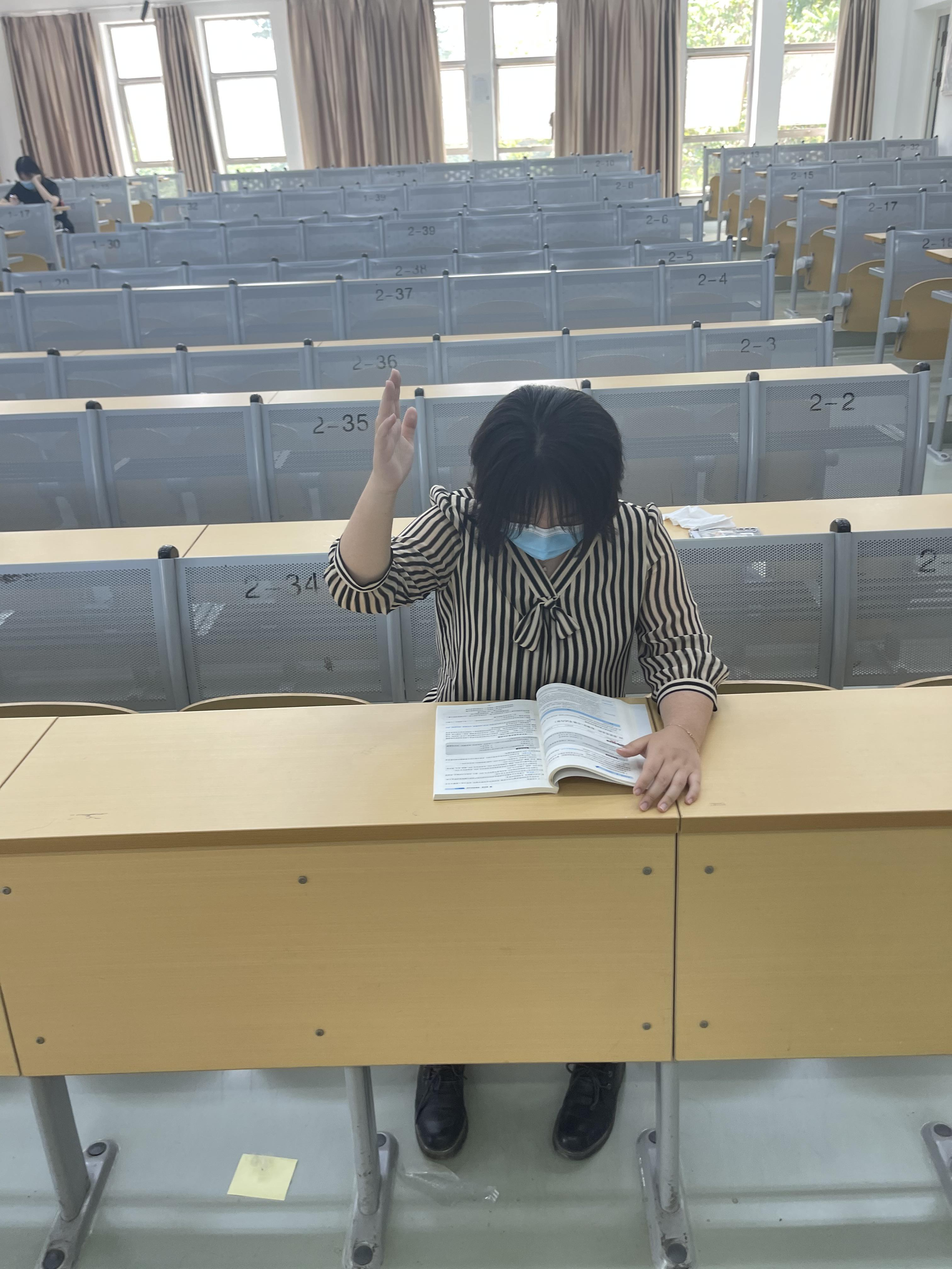study: (326, 369, 726, 812)
